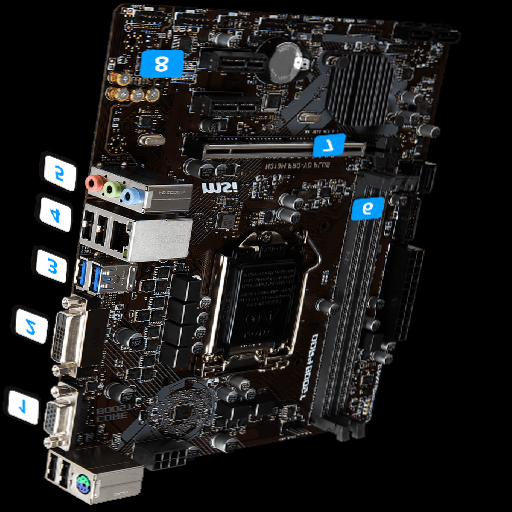CPU: (206, 229, 314, 382)
GPU: (187, 135, 388, 165)
MOTHERBOARD: (50, 9, 464, 467)
RAM: (313, 175, 420, 439)
